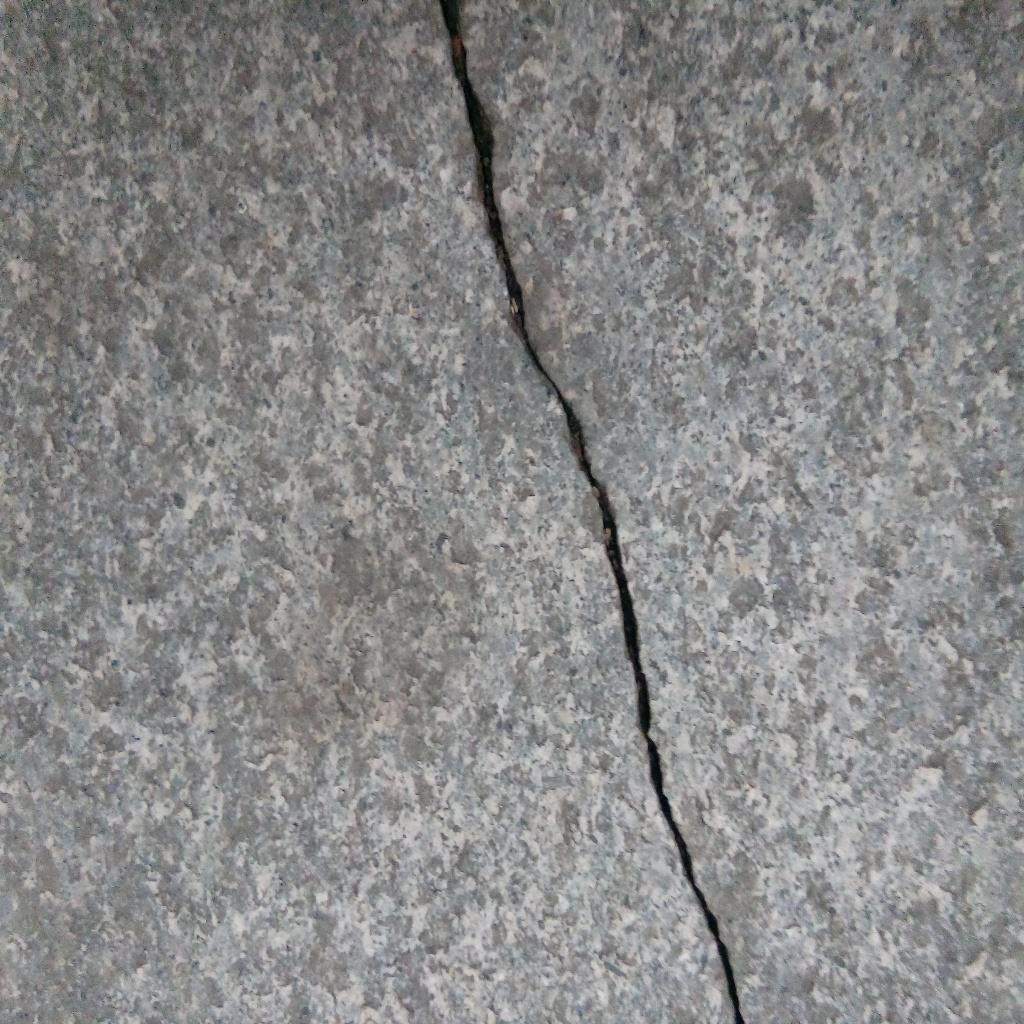Crack: (439, 1, 746, 1024)
